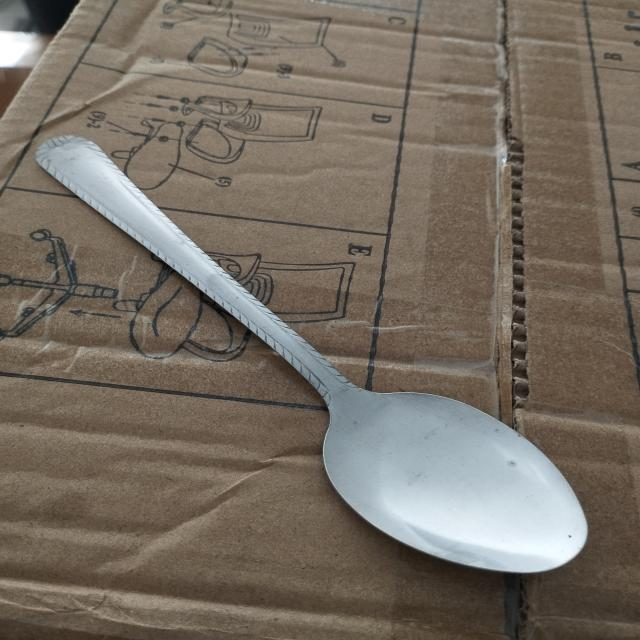Spoon: (5, 133, 622, 582)
